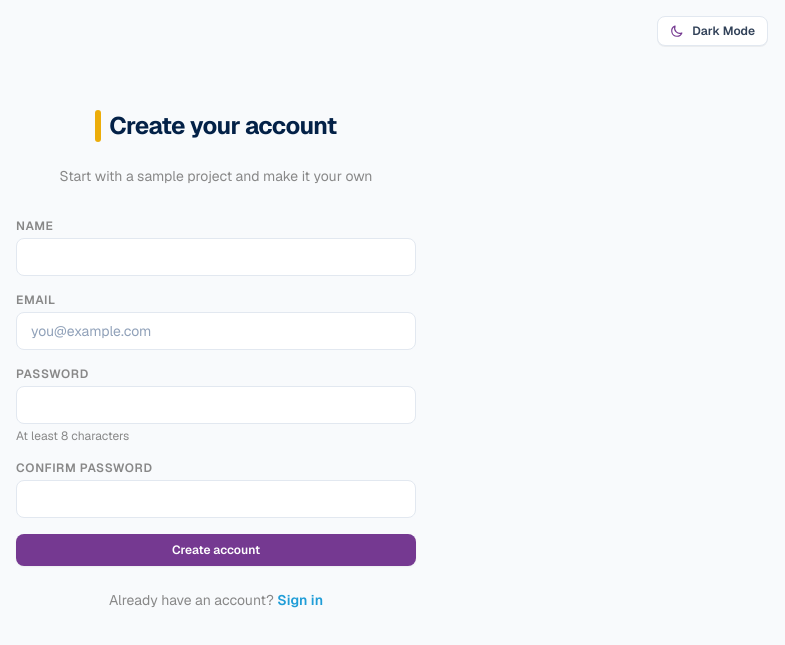
RegisterForm › shows validation errors and does not submit an invalid form
This screenshot has width=785, height=645.
Click the button "Create account" at {"x": 216, "y": 550}, box [16,534,416,566]
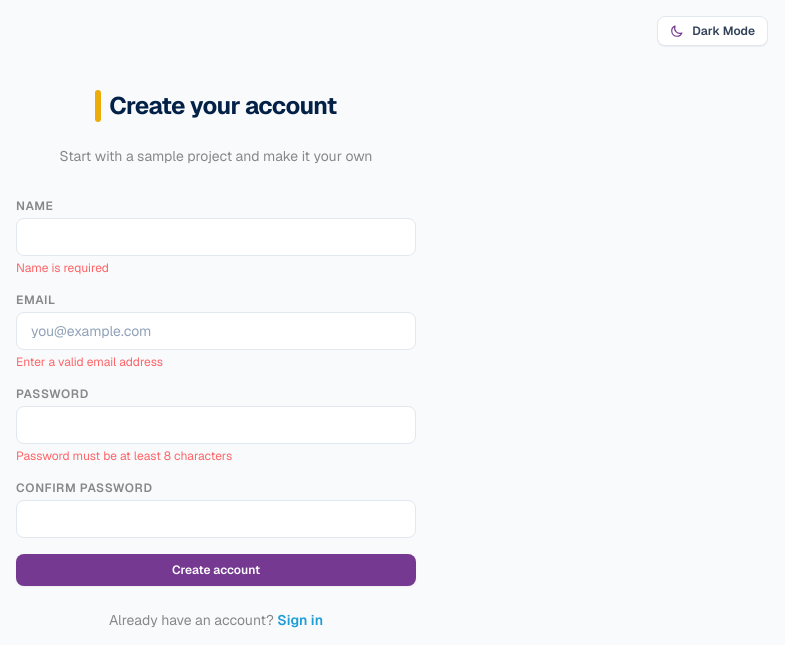
Expected: the text "Name is required" is shown, [16,260,109,276]
Expected: the text "Enter a valid email address" is shown, [16,354,163,370]
Expected: the text "Password must be at least 8 characters" is shown, [16,448,232,464]
